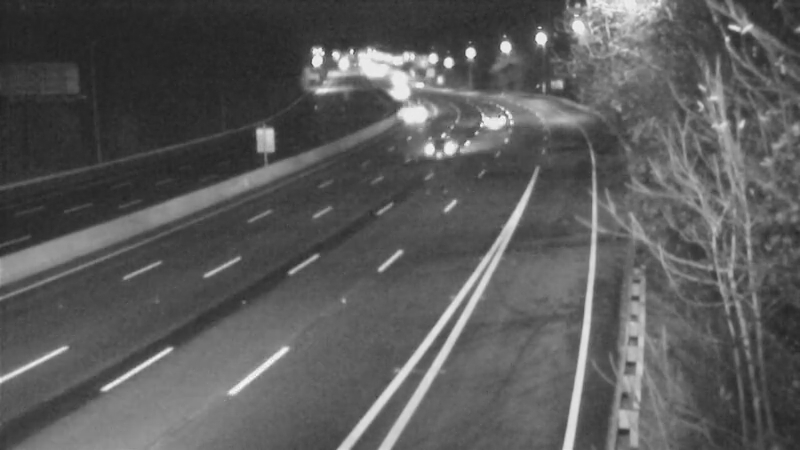vehicle: (379, 70, 429, 120), (392, 88, 442, 138), (470, 94, 520, 144), (414, 122, 464, 172)
